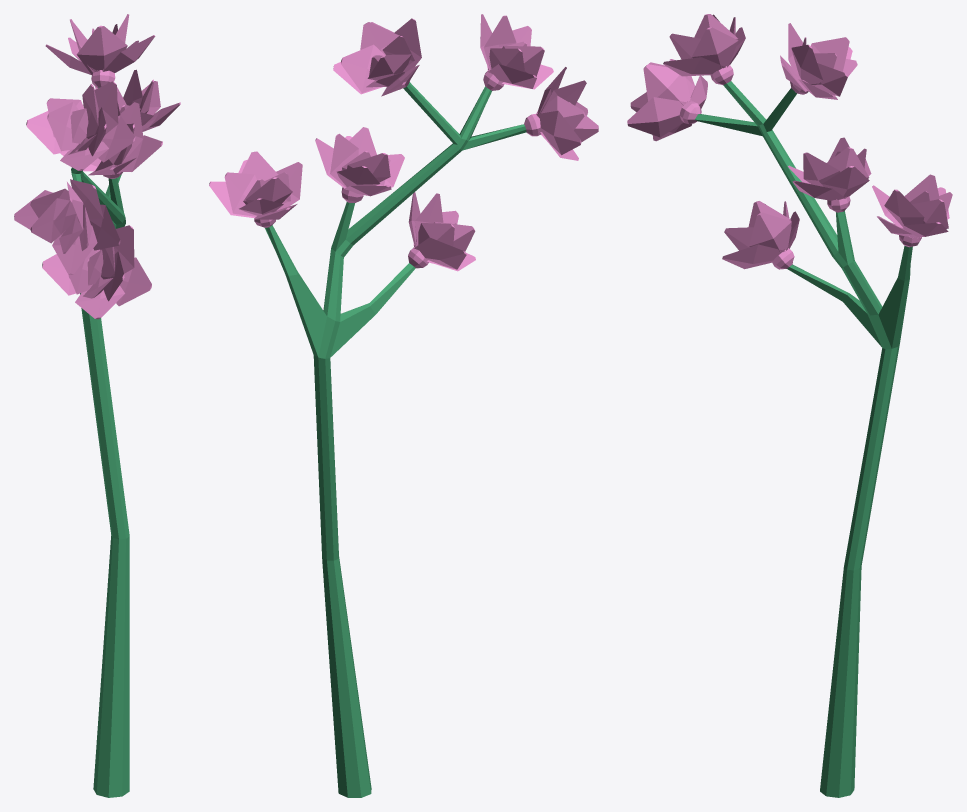
The model's file is GEO_flower_sakura.fbx.
3 views of the same model, side by side, from view 1: azimuth 30°, elevation 25°; view 2: azimuth 150°, elevation 25°; view 3: azimuth 270°, elevation 25° (orthographic). The views are drawn at different scales.
Visible parts, largest first — view 1: GEO_flower_sakura; view 2: GEO_flower_sakura; view 3: GEO_flower_sakura.
Boxes of the visible parts, x1,y1,x2,y2 form: GEO_flower_sakura: (14, 14, 180, 797); GEO_flower_sakura: (209, 14, 598, 797); GEO_flower_sakura: (627, 14, 952, 797).
Size of the model in its own units: 44.97 by 128 by 50.49.
